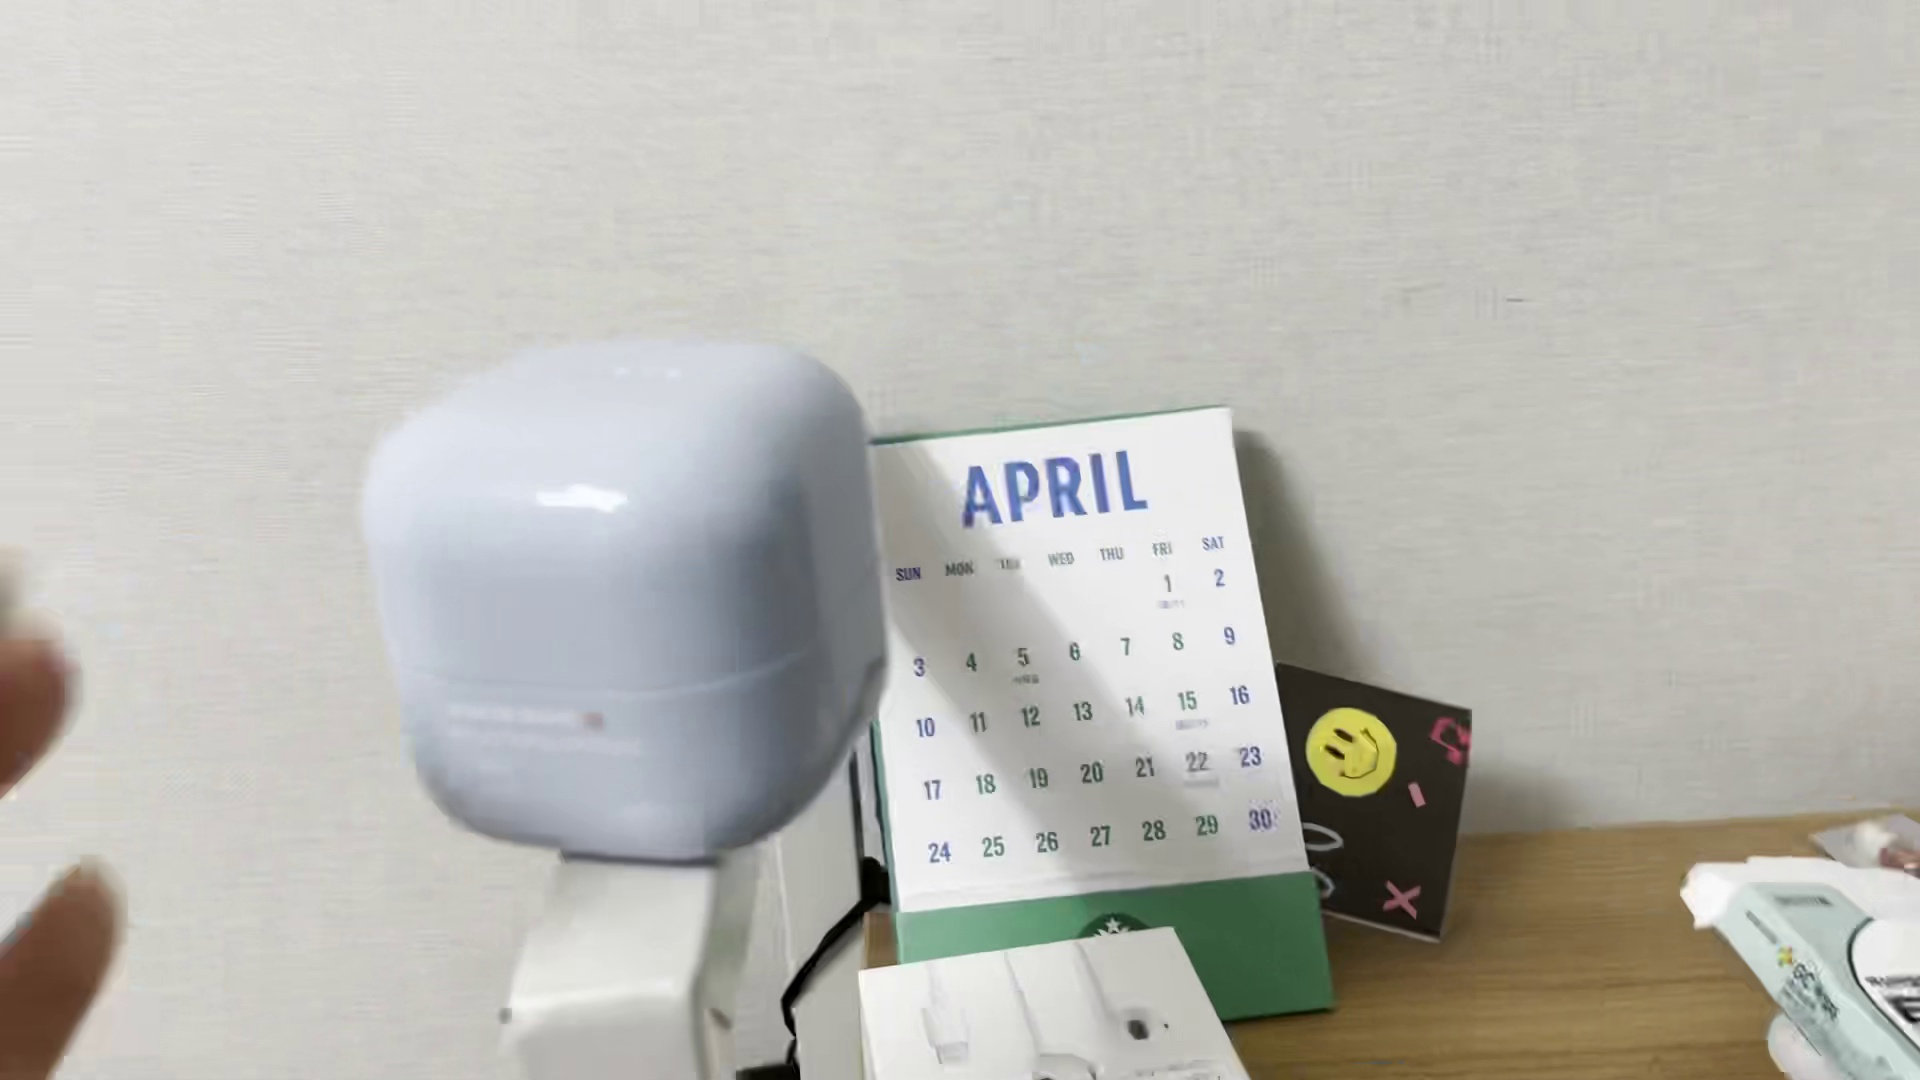cream: (371, 339, 891, 864)
